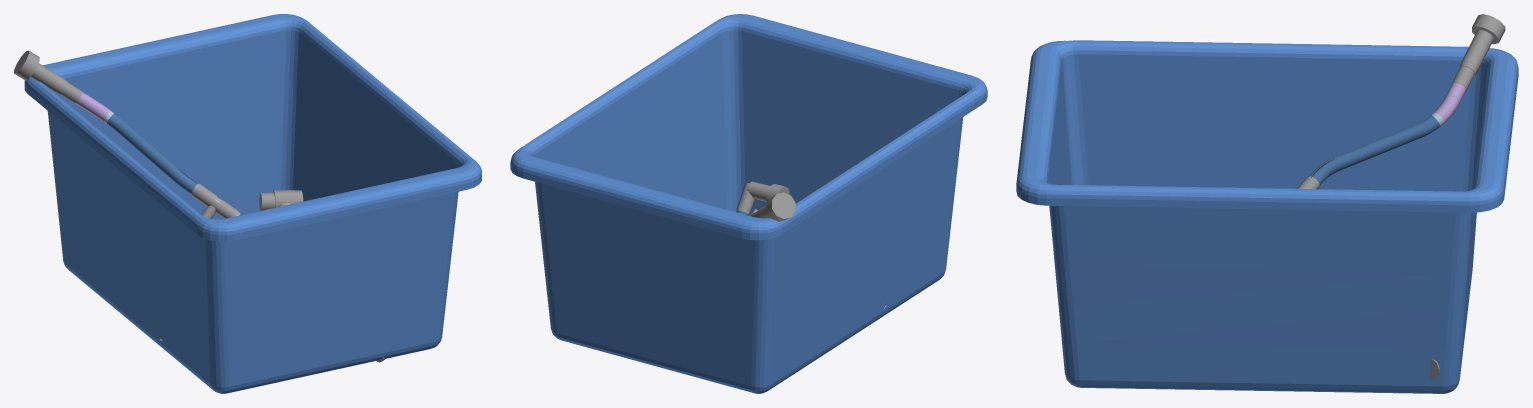
3 views of the same model, side by side, from view 1: azimuth 30°, elevation 25°; view 2: azimuth 150°, elevation 25°; view 3: azimuth 270°, elevation 25° (orthographic). The views are drawn at different scales.
Visible parts, largest first — view 1: bin, tube_2_AB, tube_0_X; view 2: bin, tube_2_AB; view 3: bin, tube_2_AB.
Boxes of the visible parts, left/top/right/bottom form: bin: left=24, top=14, right=481, bottom=393; tube_2_AB: left=14, top=50, right=242, bottom=218; tube_0_X: left=259, top=190, right=303, bottom=210; bin: left=510, top=14, right=987, bottom=393; tube_2_AB: left=736, top=181, right=795, bottom=221; bin: left=1016, top=40, right=1518, bottom=393; tube_2_AB: left=1297, top=14, right=1505, bottom=189.
Bounding box in the file's own units: 0.3089 × 0.2263 × 0.4077.
